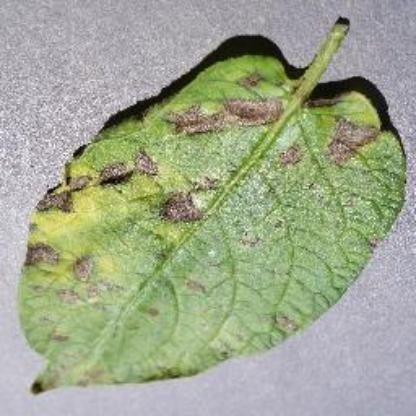Early-Blight: (15, 8, 404, 398)
